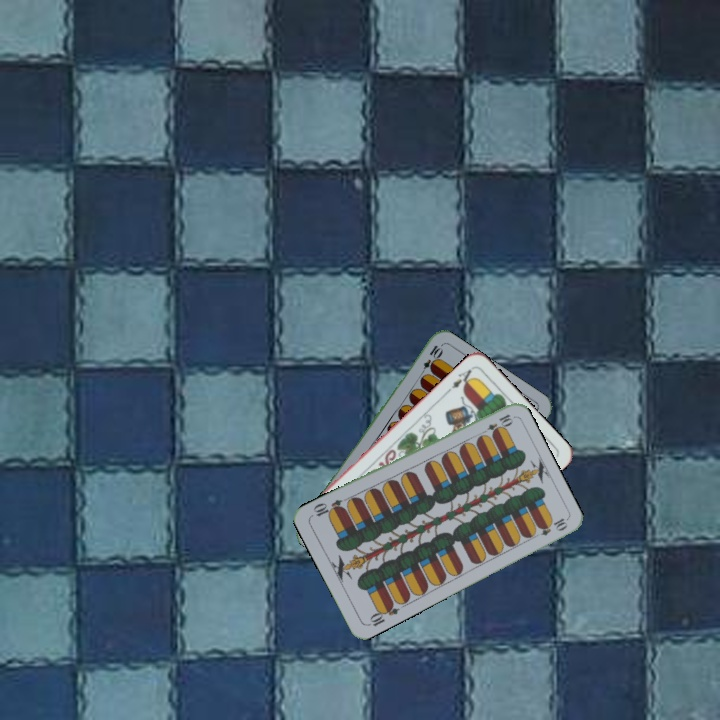E10: (363, 599, 402, 629), (416, 341, 444, 379), (477, 410, 515, 438)
EA: (443, 366, 477, 395)
